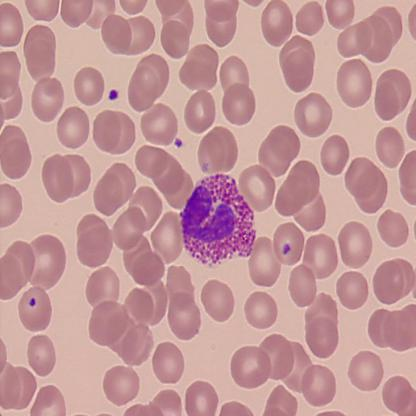Eosinophil: (181, 173, 256, 268)
